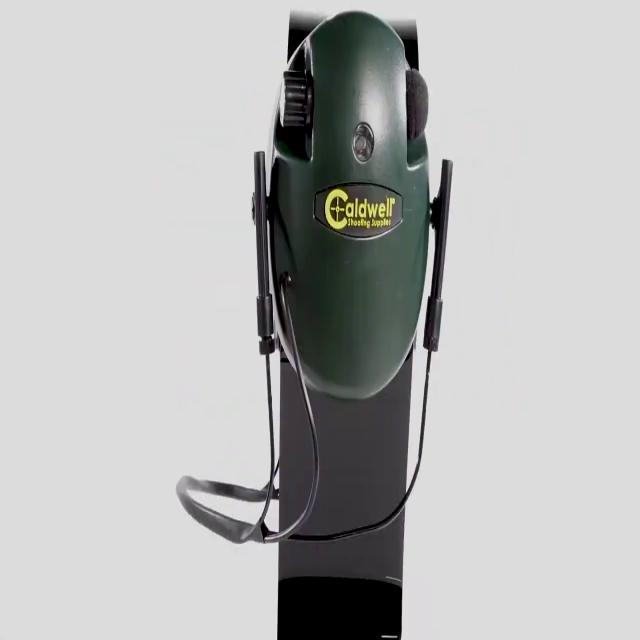earmuff: (262, 2, 434, 404)
